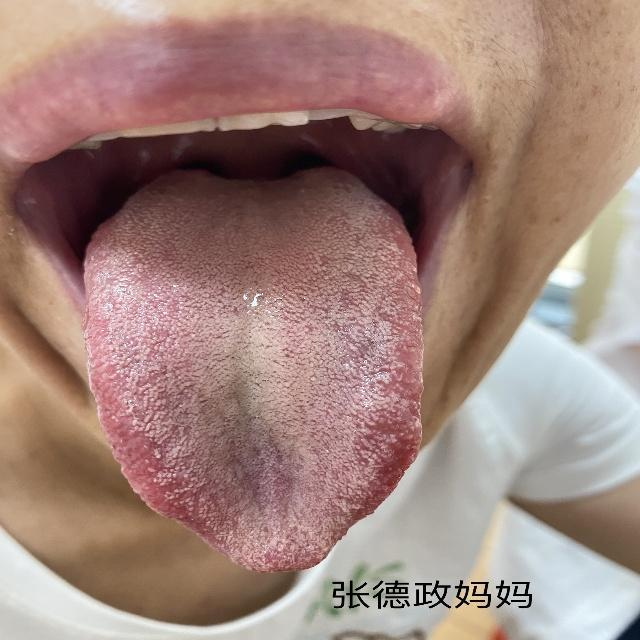baitaishe: (85, 172, 423, 573)
